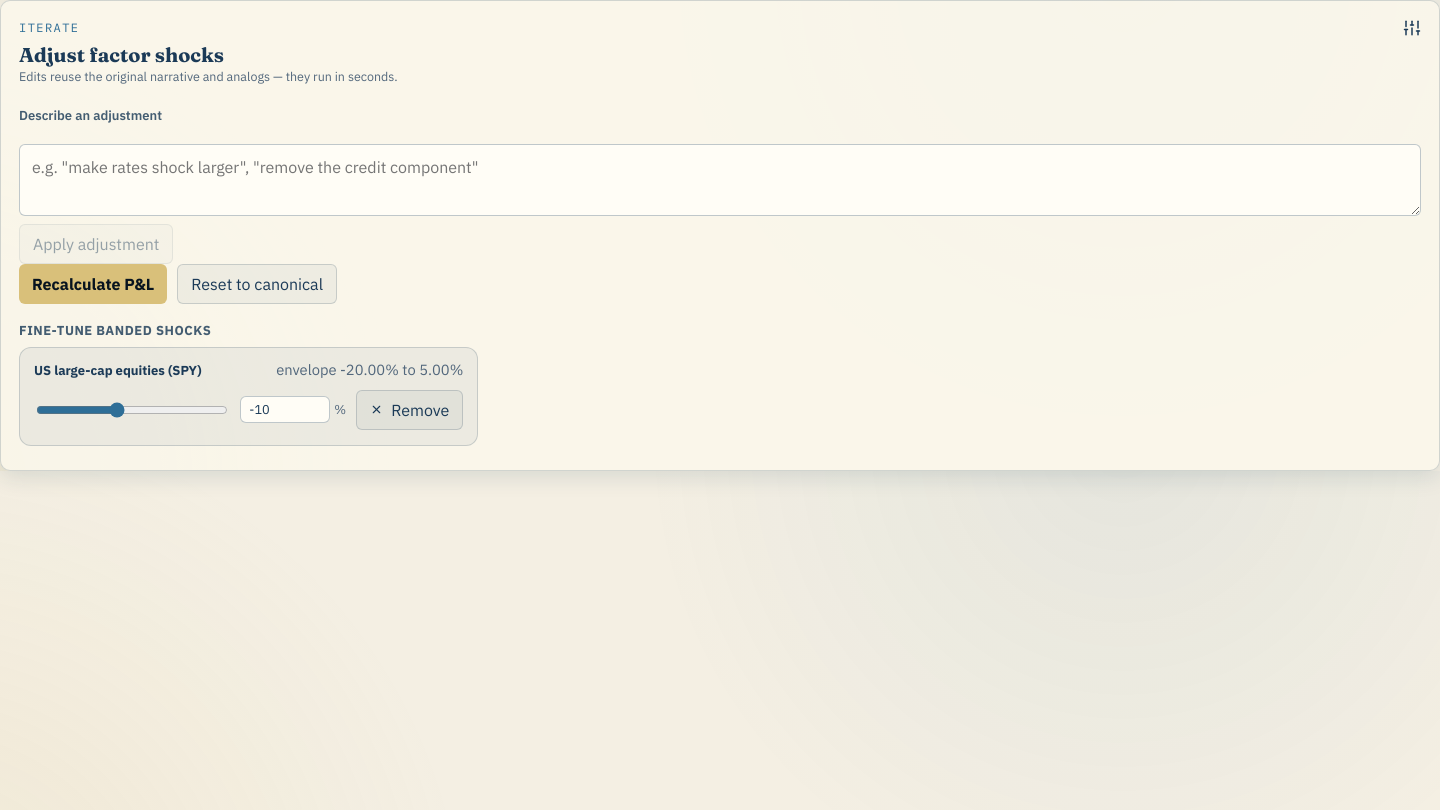
AdjustmentPanel error dispatch › pushes a success toast when an adjustment applies
The width and height of the screenshot is (1440, 810).
Click the button "Recalculate P&L": (93, 284) [19, 264, 167, 304]
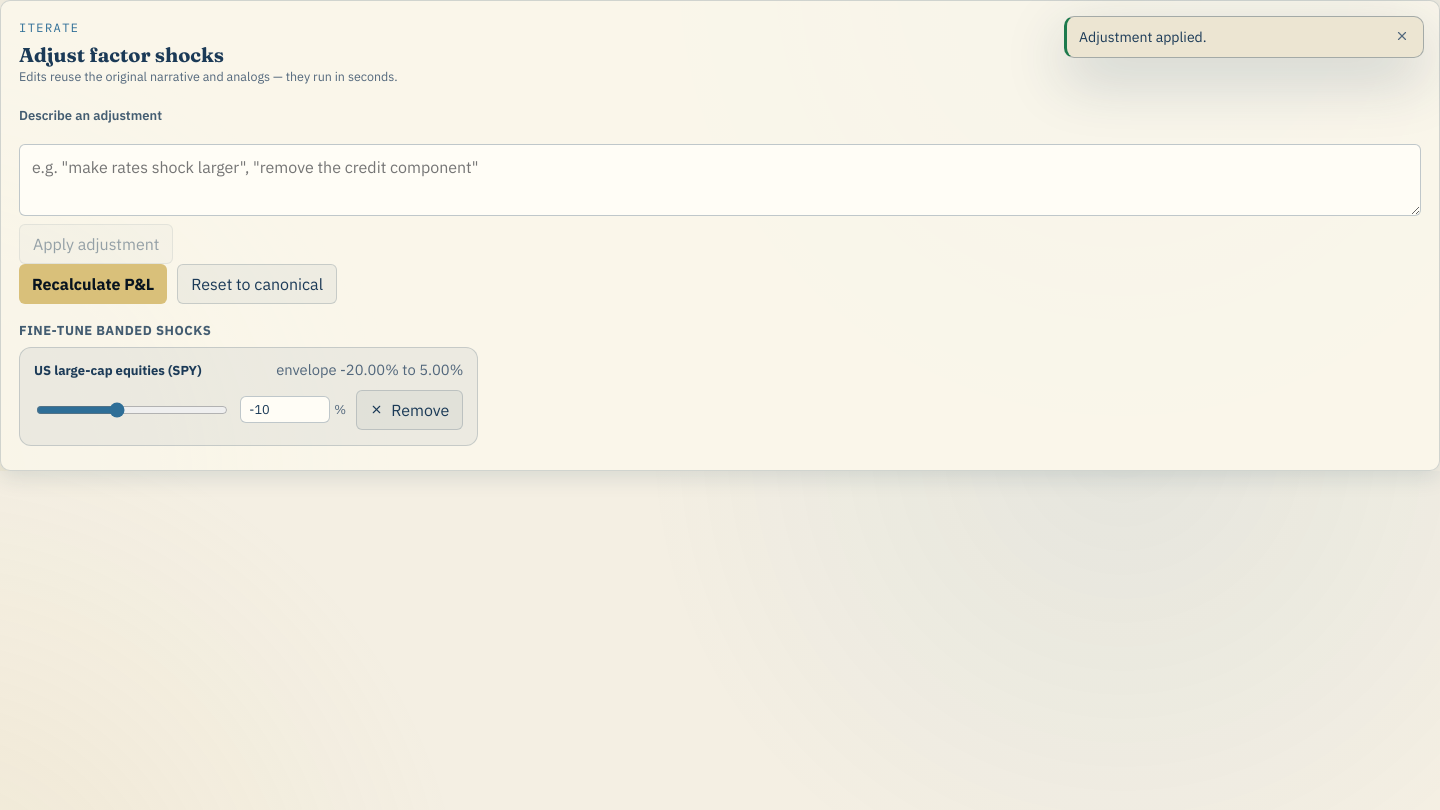
Expected: the text "Adjustment applied." is shown, [1079, 28, 1207, 46]
